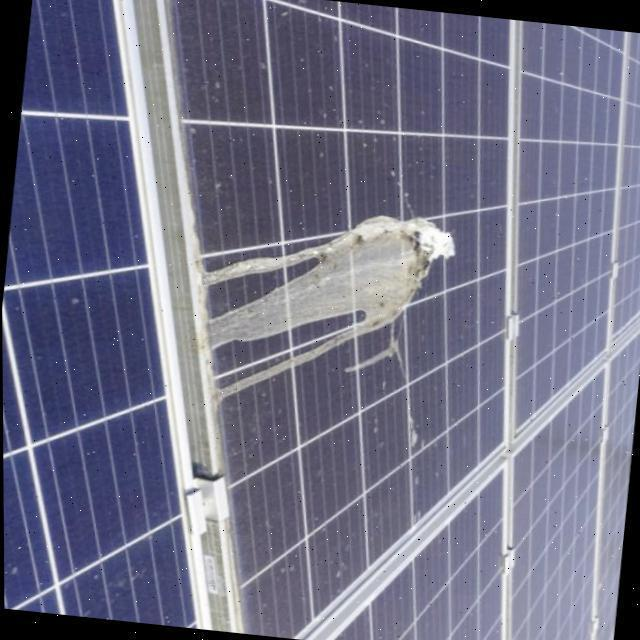Anomaly Solar Panel: (162, 0, 640, 640)
Normal Solar Panel: (2, 0, 201, 629)
Surface Contaminant: (195, 202, 485, 408)
